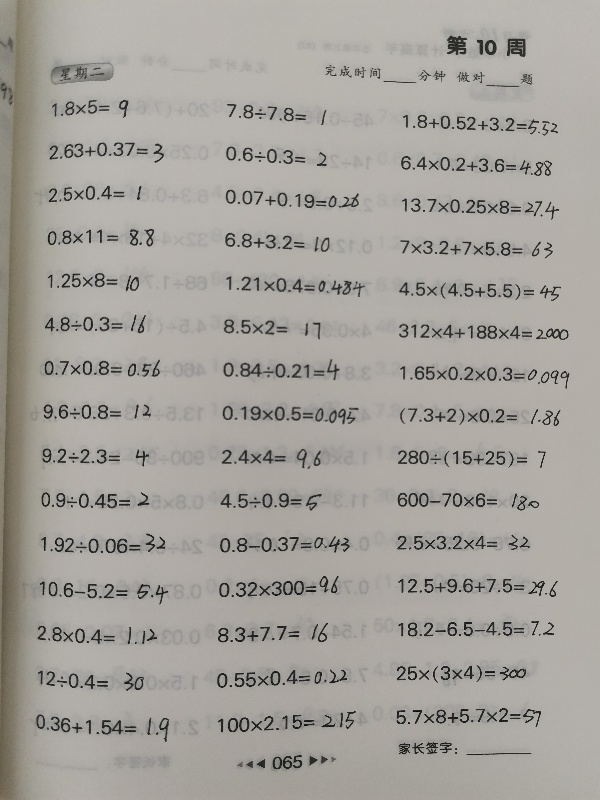equation: (396, 318, 575, 346), (396, 362, 572, 388), (31, 712, 173, 744), (394, 234, 562, 261), (394, 615, 564, 641), (397, 193, 562, 219), (395, 278, 564, 303), (395, 404, 563, 429), (394, 573, 561, 598), (399, 111, 561, 136), (396, 153, 555, 178), (392, 703, 544, 729), (393, 446, 549, 471), (394, 489, 546, 514), (219, 311, 330, 344), (36, 577, 171, 604), (214, 709, 359, 734), (222, 273, 368, 297), (219, 356, 344, 384), (31, 666, 151, 695), (218, 402, 362, 426), (45, 137, 167, 165), (37, 531, 168, 557), (221, 187, 362, 211), (394, 531, 534, 555), (214, 574, 343, 600), (216, 533, 354, 557), (393, 661, 530, 685), (214, 620, 332, 647), (33, 622, 160, 647), (212, 666, 350, 689), (223, 102, 336, 130), (44, 225, 158, 251), (40, 356, 163, 380), (218, 443, 325, 470), (40, 310, 149, 336), (38, 489, 153, 513), (221, 145, 335, 169), (216, 488, 325, 513), (39, 445, 152, 469), (40, 401, 155, 424), (220, 231, 333, 254), (44, 268, 143, 293), (45, 96, 131, 123), (45, 181, 144, 204)
